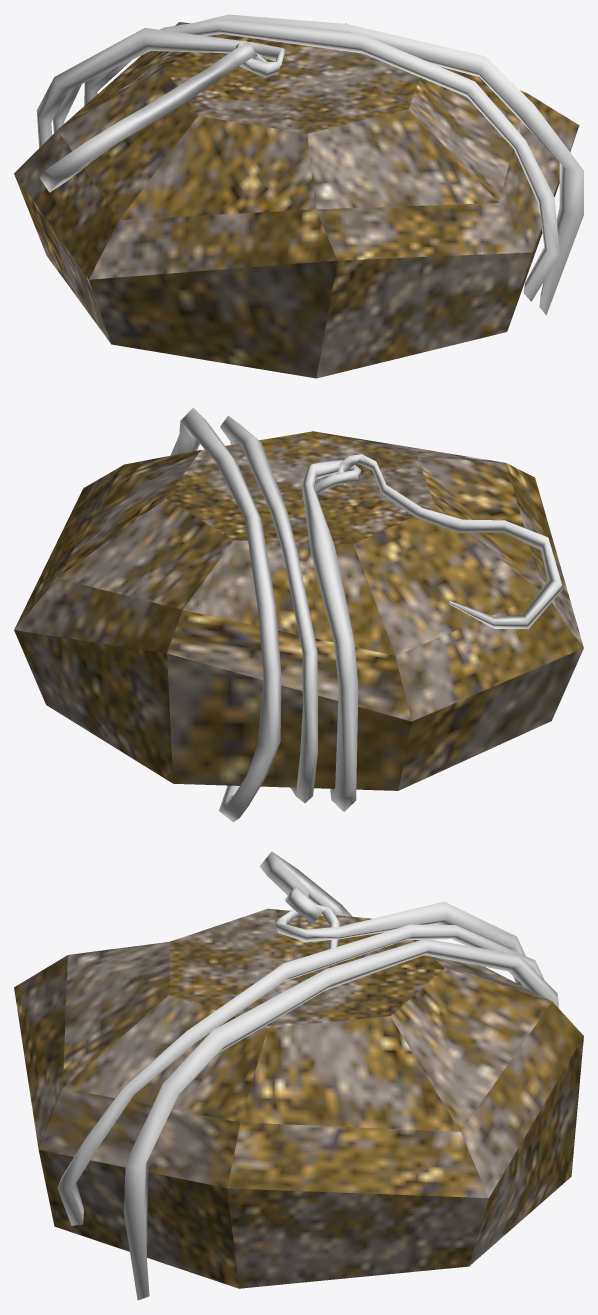
Rendered from Ham.fbx.
3 renders of one model, top to bottom at view 1: azimuth 30°, elevation 25°; view 2: azimuth 150°, elevation 25°; view 3: azimuth 270°, elevation 25°, orthographic. The views are drawn at different scales.
Parts seen in each view (by area): view 1: BezierCurve.001; view 2: BezierCurve.001; view 3: BezierCurve.001.
Part boxes in pixels (x1,y1,x2,y2): BezierCurve.001: (14,14,583,378); BezierCurve.001: (14,407,583,822); BezierCurve.001: (14,851,583,1300).
Bounding box in the file's own units: 119 × 65.72 × 110.
